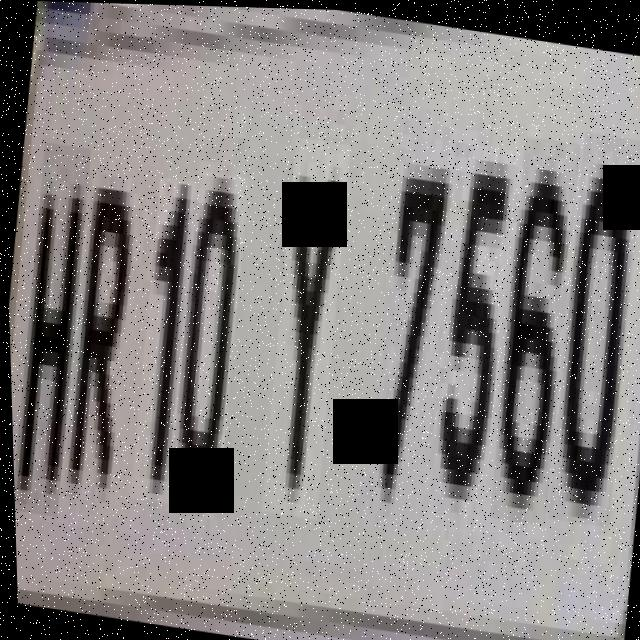0: (536, 126, 640, 524), (157, 168, 255, 512)
1: (120, 175, 204, 505)
5: (417, 135, 527, 534)
6: (477, 131, 588, 523)
7: (351, 108, 468, 528)
H: (3, 140, 98, 517)
R: (46, 149, 151, 521)
Y: (249, 134, 359, 518)
